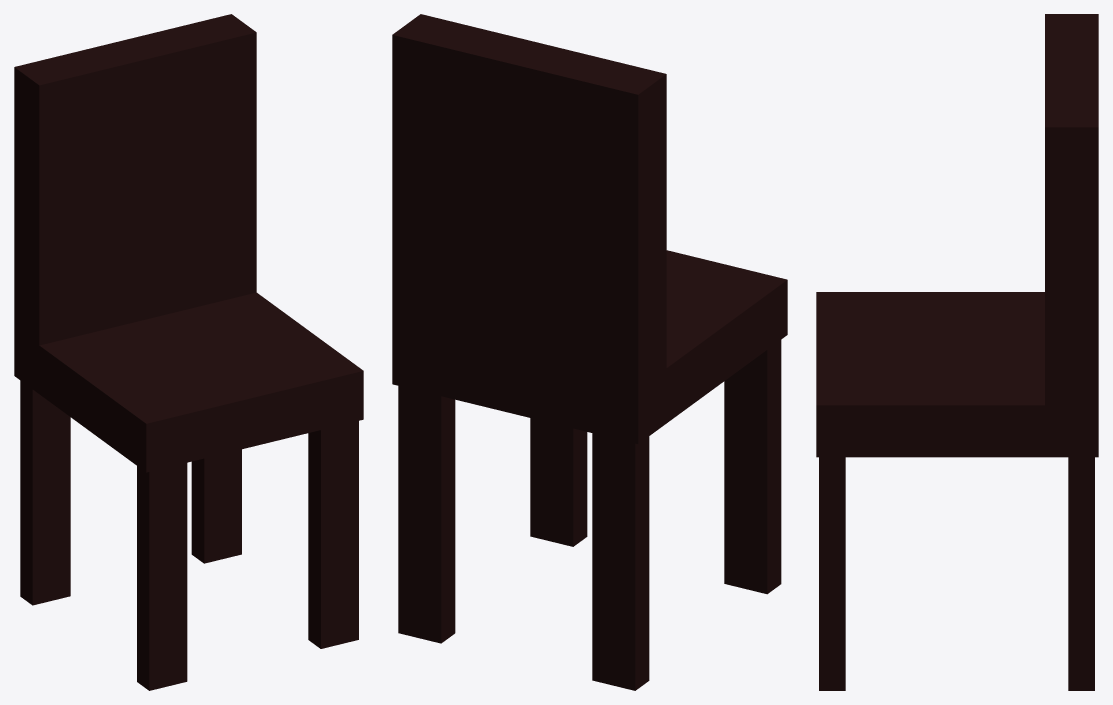
The model's file is chair.fbx.
The picture shows the model from 3 angles, left to right: view 1: azimuth 30°, elevation 25°; view 2: azimuth 150°, elevation 25°; view 3: azimuth 270°, elevation 25°; orthographic projection. The views are drawn at different scales.
Visible parts, largest first — view 1: Cube, Cube.003; view 2: Cube, Cube.003; view 3: Cube, Cube.003.
Boxes of the visible parts, x1,y1,x2,y2 form: Cube: (14,14,363,472); Cube.003: (20,380,358,690); Cube: (392,14,787,443); Cube.003: (398,340,781,690); Cube: (816,14,1098,457); Cube.003: (819,457,1094,690).
Size of the model in its own units: 408 by 949 by 429.
